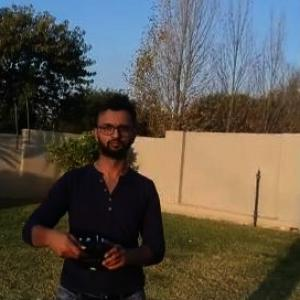follow: (18, 89, 170, 299)
